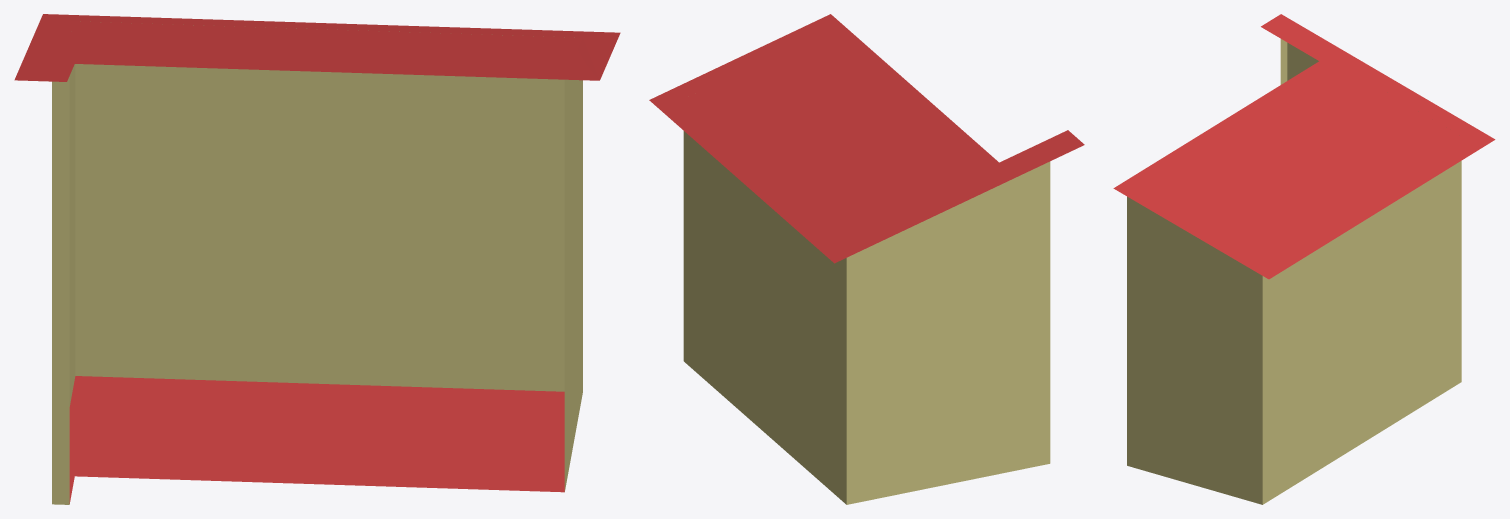
The picture shows the model from 3 angles, left to right: view 1: azimuth 30°, elevation 25°; view 2: azimuth 150°, elevation 25°; view 3: azimuth 270°, elevation 25°; orthographic projection. The views are drawn at different scales.
Size of the model in its own units: 9.81 by 7.84 by 6.86.
